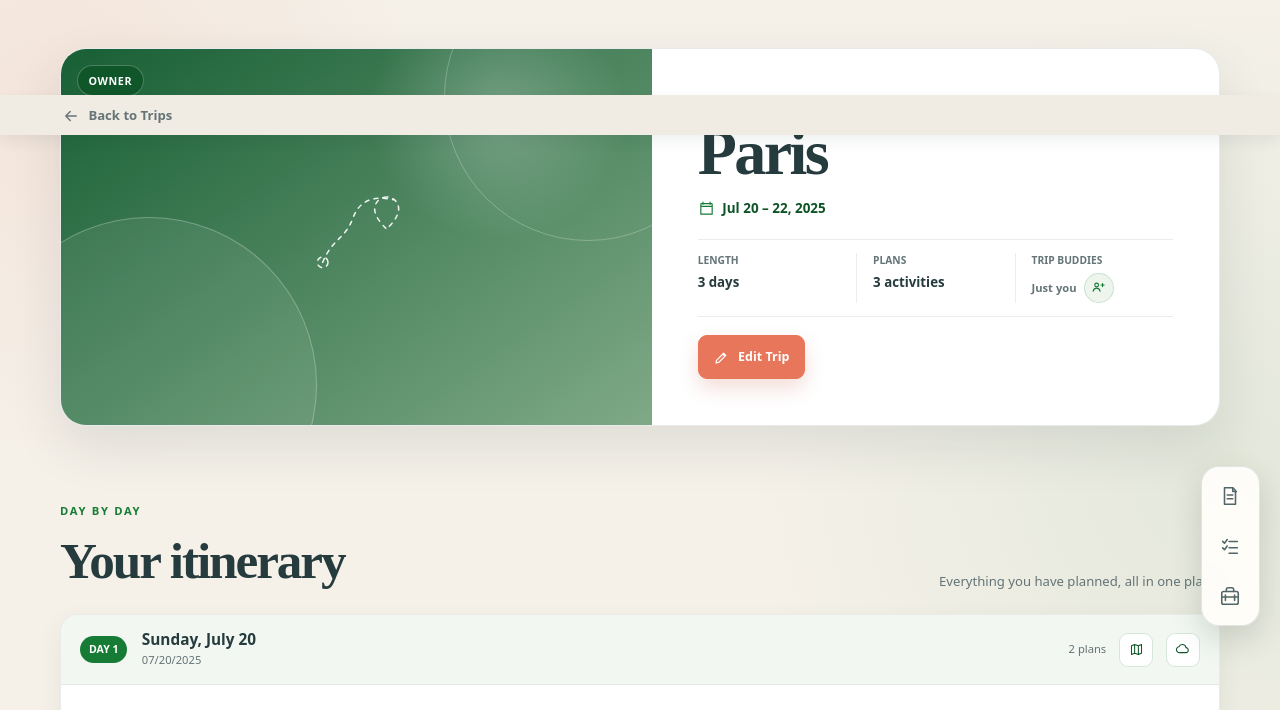
Test: TripDetail › enters edit mode when "Edit Trip" button is clicked
Check: the text "Edit Trip" is shown, box [738, 348, 789, 366]
Click the button "Edit Trip": (751, 357) [698, 335, 805, 379]
(page scrolled)
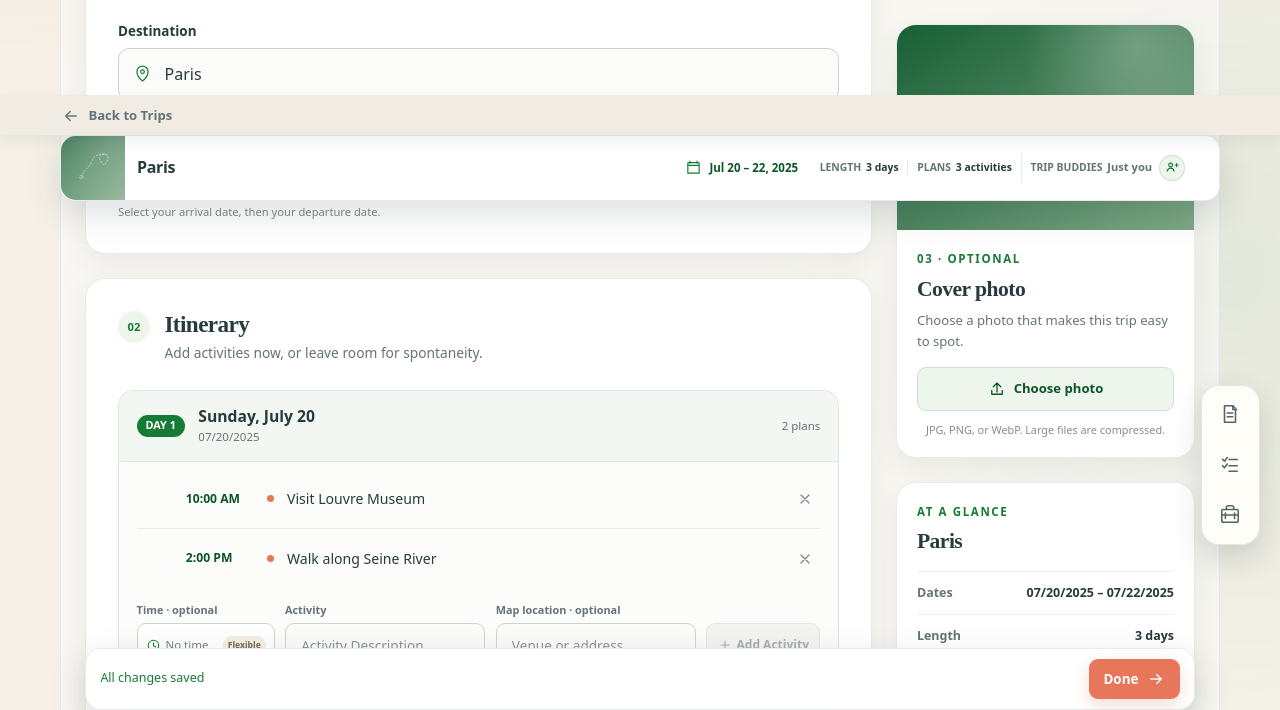
Check: the field showing "Paris" is shown, box [118, 48, 839, 100]
